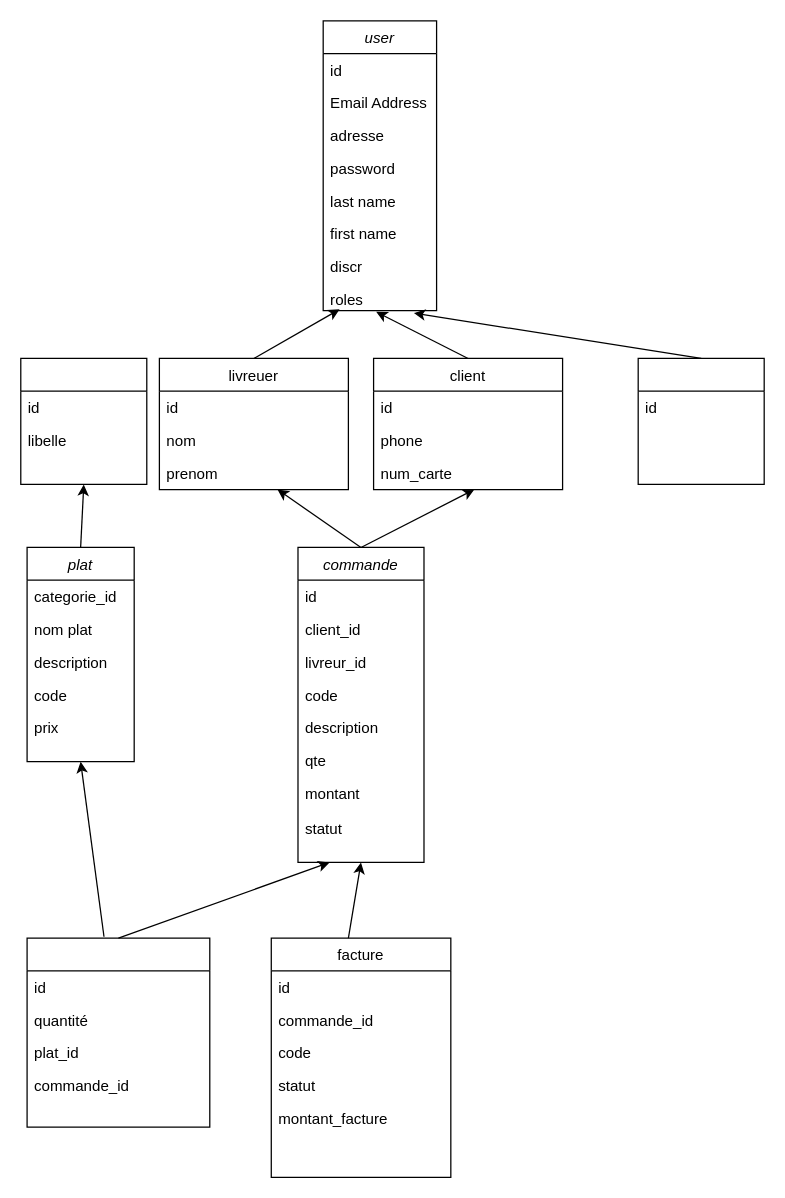
This 785x1198 diagram has some shape labels left out. Each missing label, with the box of its shape:
administrateur: (637, 357, 764, 484)
categorie: (20, 357, 147, 484)
commande_plats: (26, 937, 210, 1127)
